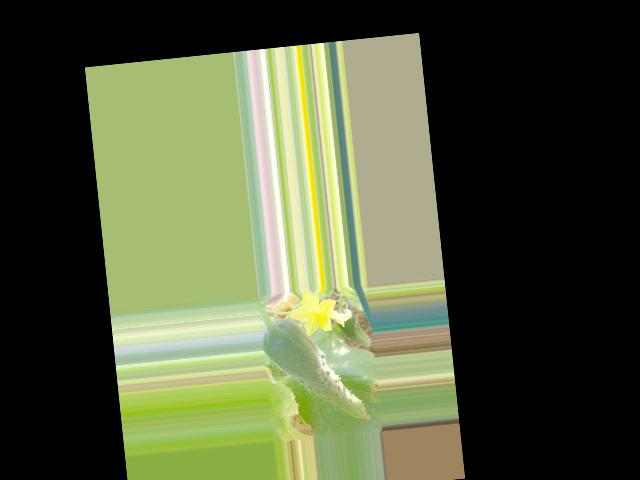cucumber: (260, 310, 371, 430)
